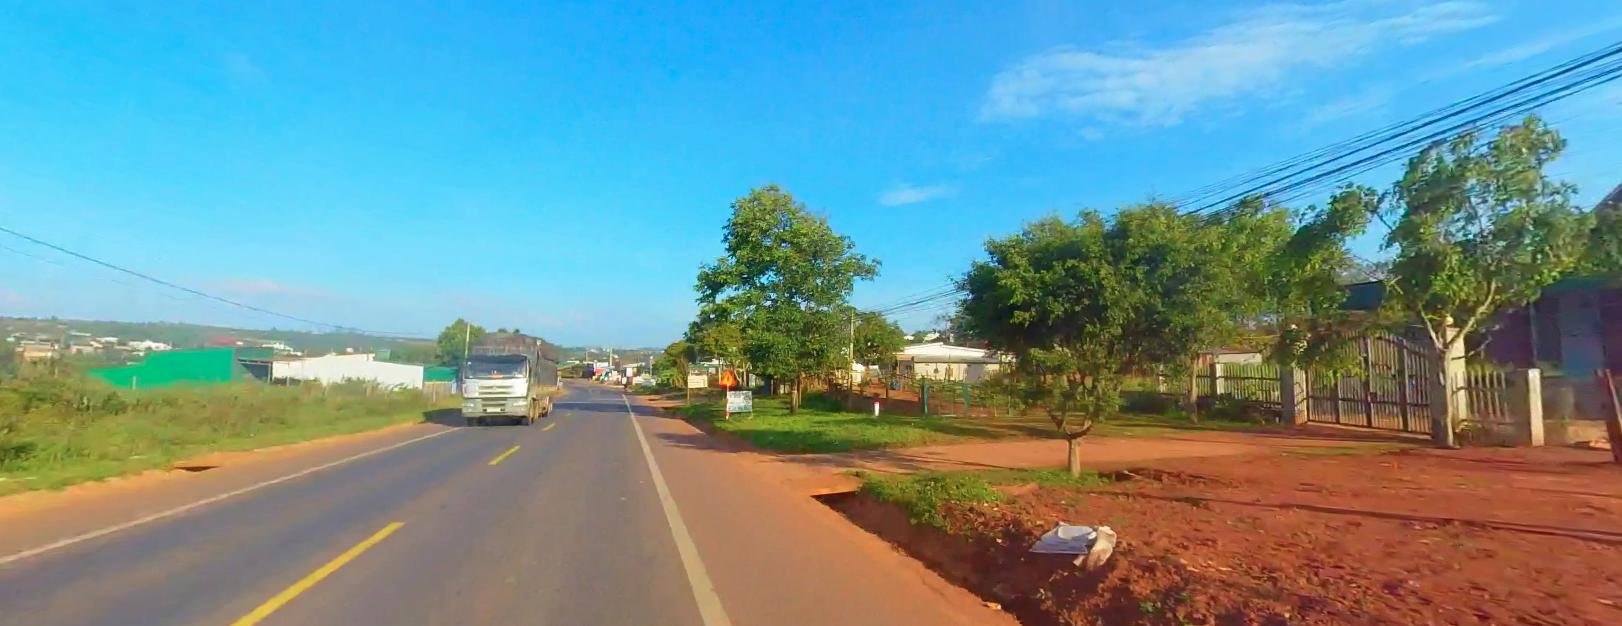Nguy hiem: (718, 364, 738, 384)
